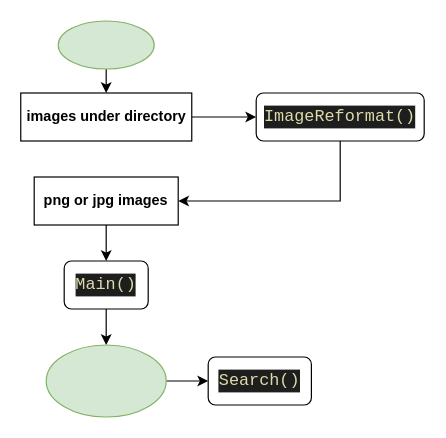
Some shapes in this 446 by 438 pixel diagram are drawn without their labels. The centre of each missing label's shape, as x and y in pixels:
"save in elasticsearch" goes at point 105,380.
"Start" goes at point 105,44.
